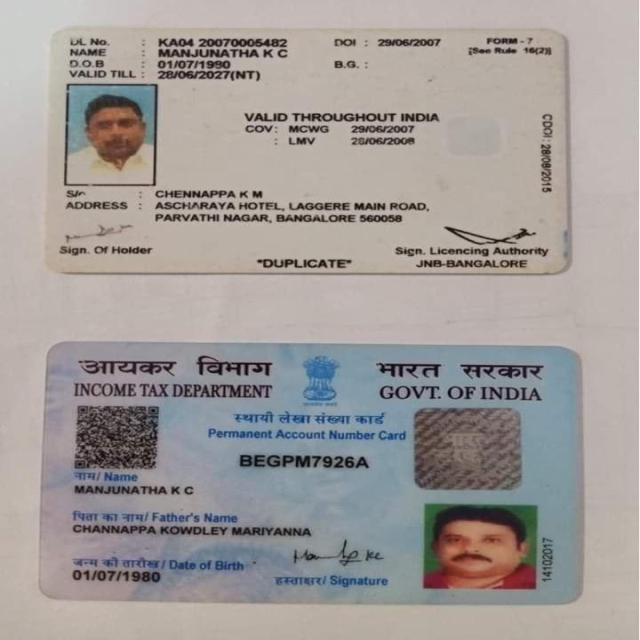pan_card: (41, 337, 584, 605)
